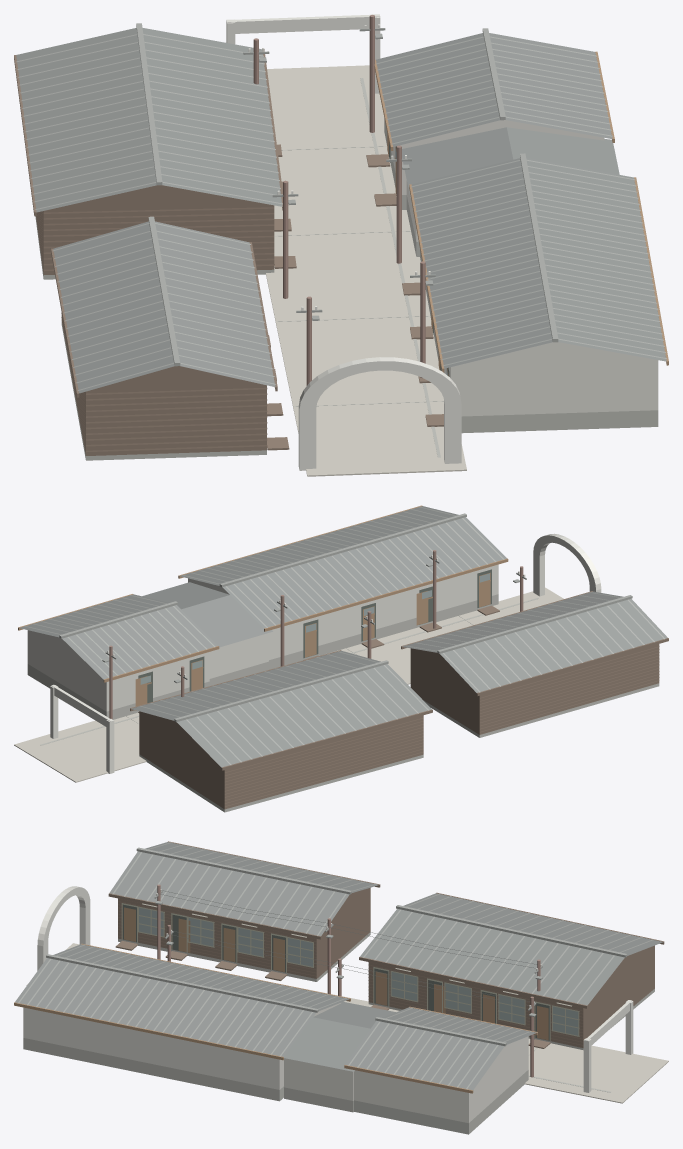
File: coal-village.glb
The picture shows the model from 3 angles, top to bottom: view 1: azimuth 30°, elevation 25°; view 2: azimuth 150°, elevation 25°; view 3: azimuth 270°, elevation 25°; orthographic projection. The views are drawn at different scales.
Visible parts, largest first — view 1: Coal miners housing village; view 2: Coal miners housing village; view 3: Coal miners housing village.
Part boxes in pixels (x1=…): Coal miners housing village: x1=14, y1=14, x2=668, y2=476; Coal miners housing village: x1=14, y1=505, x2=668, y2=812; Coal miners housing village: x1=14, y1=841, x2=668, y2=1134.
Size of the model in its own units: 33.99 by 5.15 by 37.94.
